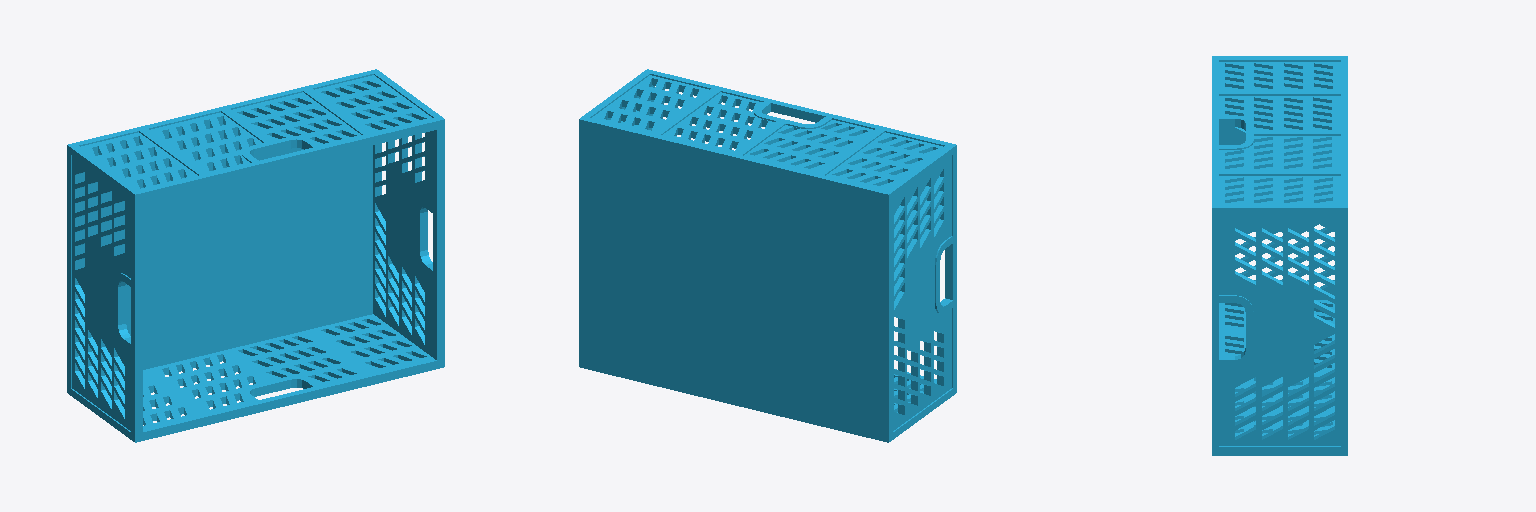
Rendered from Plastic_Storage_Crate.obj.
3 views of the same model, side by side, from view 1: azimuth 30°, elevation 25°; view 2: azimuth 150°, elevation 25°; view 3: azimuth 270°, elevation 25° (orthographic).
Size of the model in its own units: 0.34 by 0.26 by 0.13.